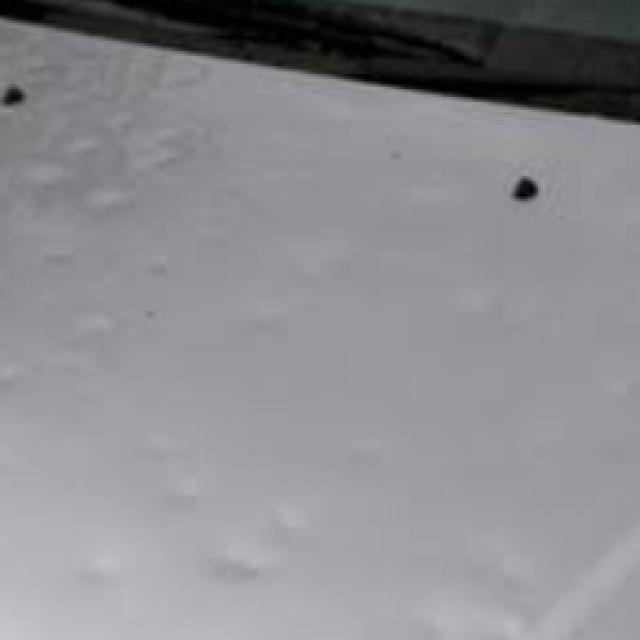dents: (421, 543, 561, 640), (213, 292, 326, 357), (336, 417, 414, 500), (455, 270, 529, 338), (286, 239, 396, 282), (133, 130, 205, 190), (209, 536, 271, 604), (82, 306, 149, 366), (247, 498, 328, 543), (50, 553, 130, 598), (56, 128, 128, 176), (73, 179, 138, 230), (20, 162, 75, 213), (158, 472, 213, 523), (139, 250, 194, 300), (1, 366, 50, 417)
